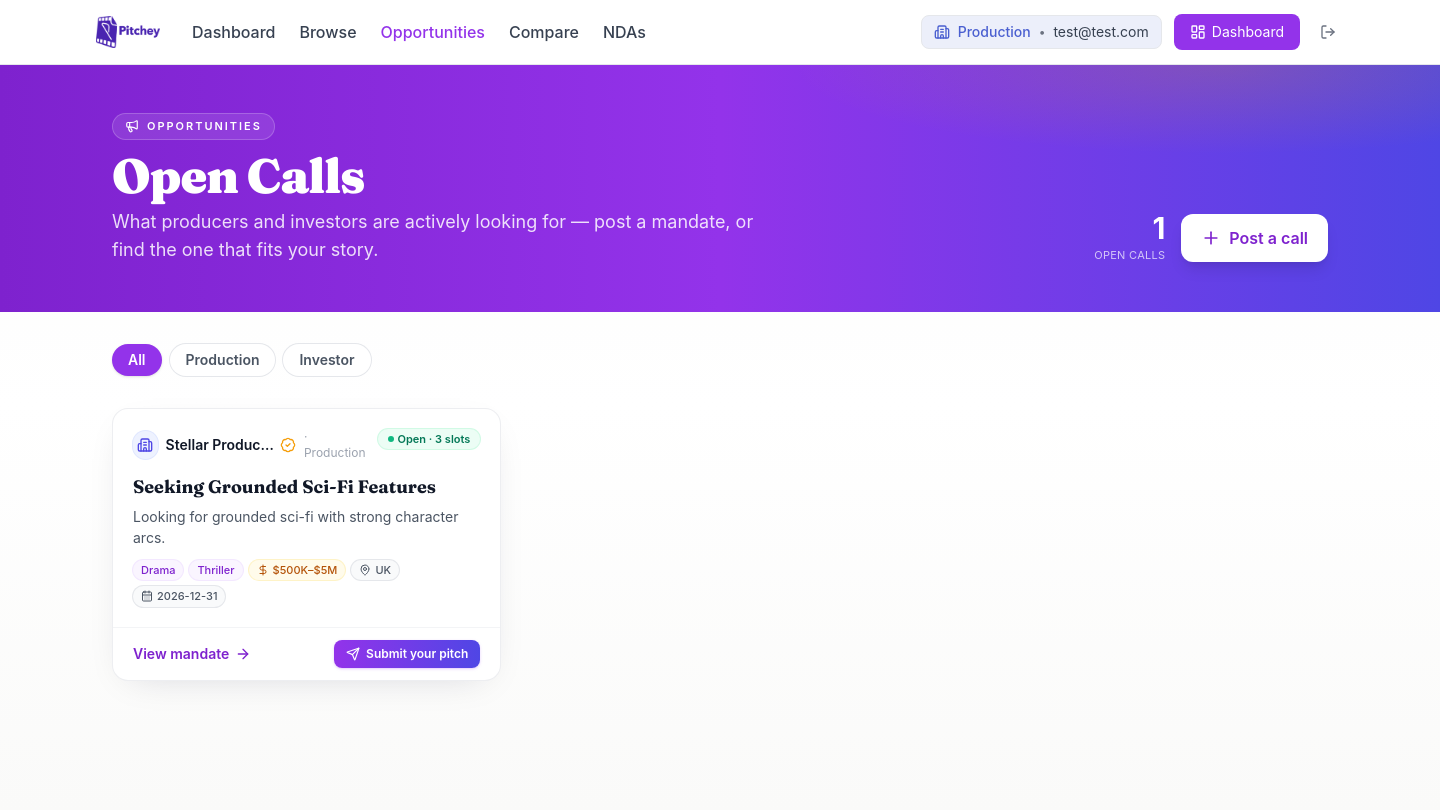
Scenario: OpportunitiesBoard › closes the view mandate modal when the backdrop is clicked
The width and height of the screenshot is (1440, 810).
Click the button "View mandate" at coordinates (192, 654), box top-left (133, 644), bottom-right (251, 664)
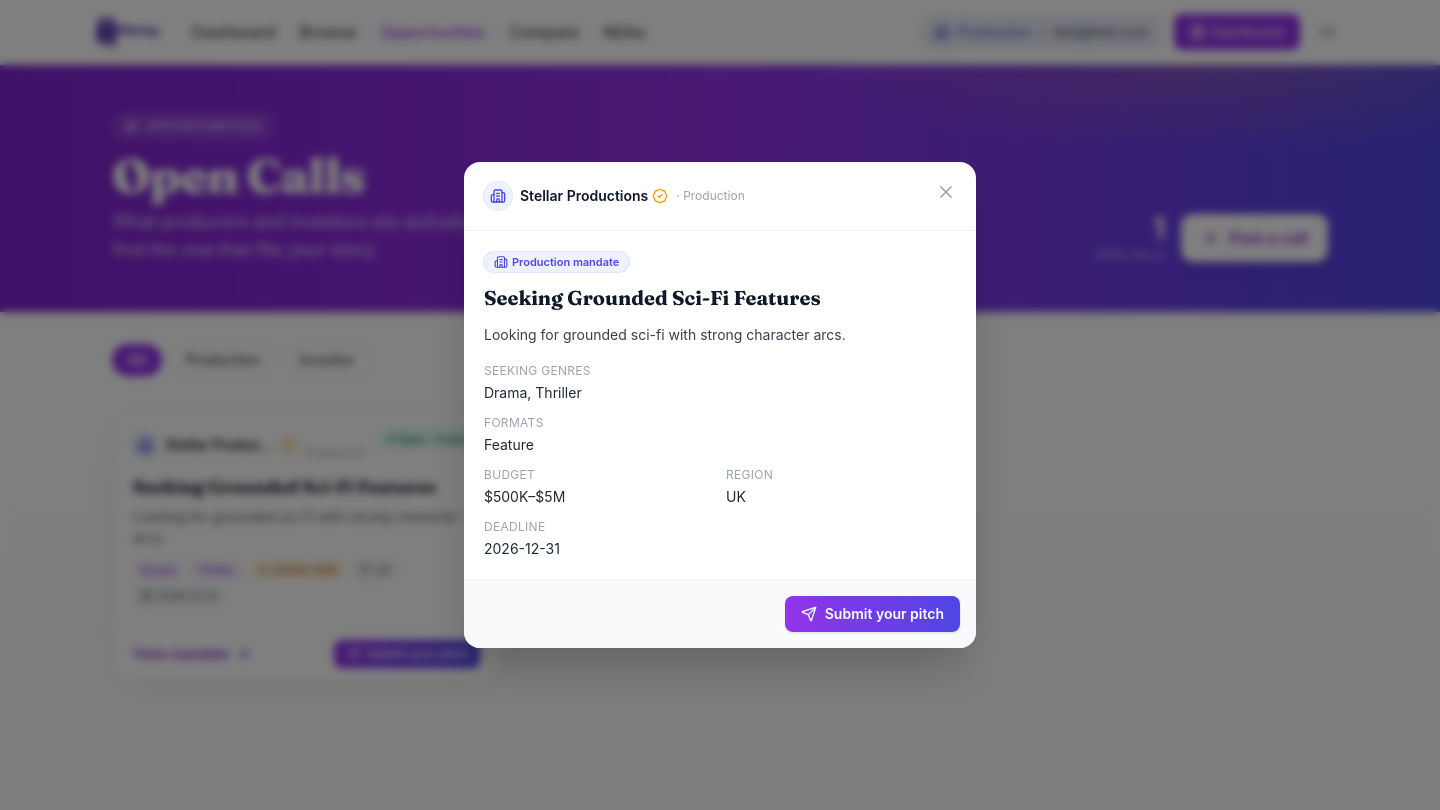
Result: the text "Production mandate" is shown at top-left (484, 252), bottom-right (629, 272)
Click the backdrop (first element with fixed inset-0)
Click the element with class "inset-0" that starts with "Stellar Productions" at coordinates (86, 405), box top-left (0, 0), bottom-right (1439, 809)
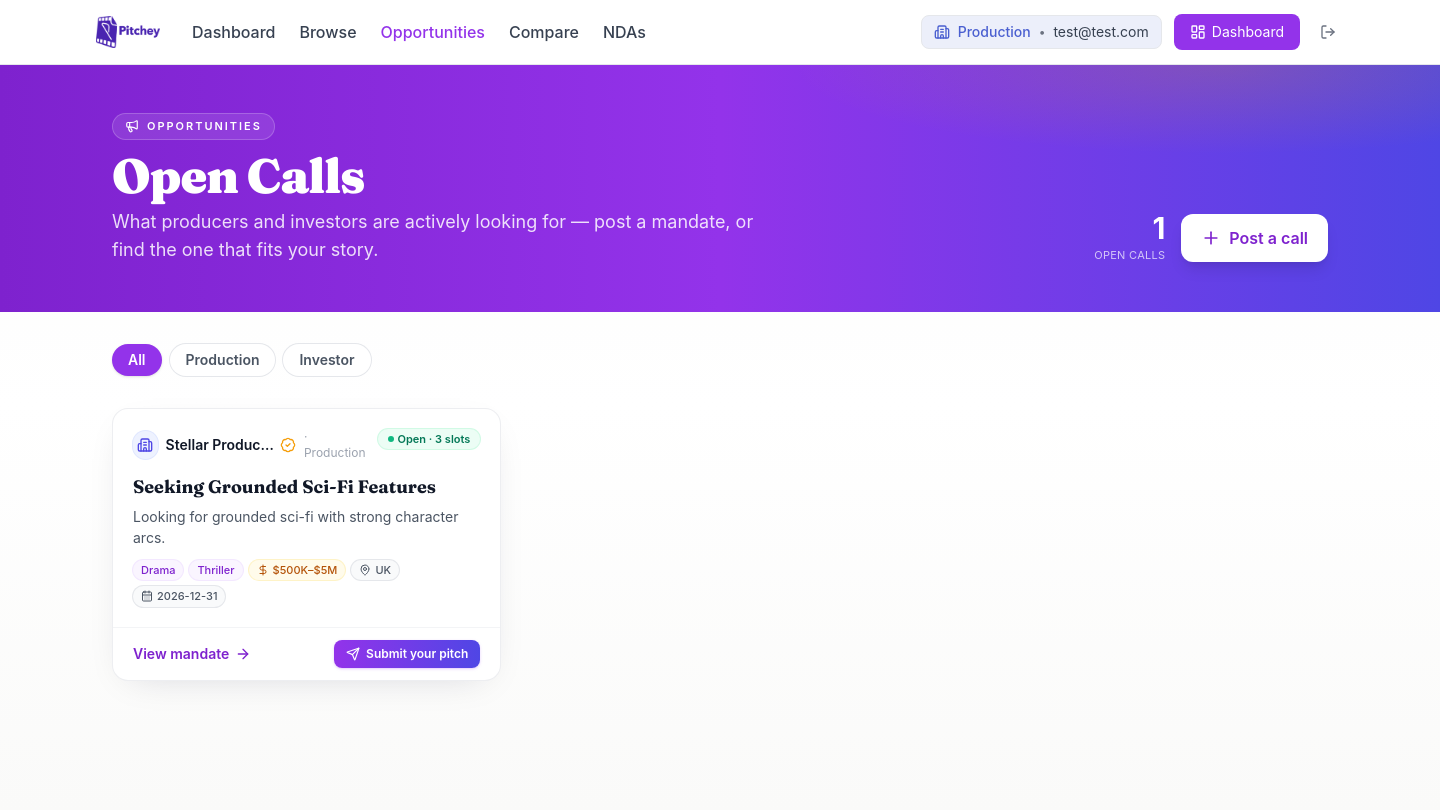
Result: the text "Production mandate" is gone
